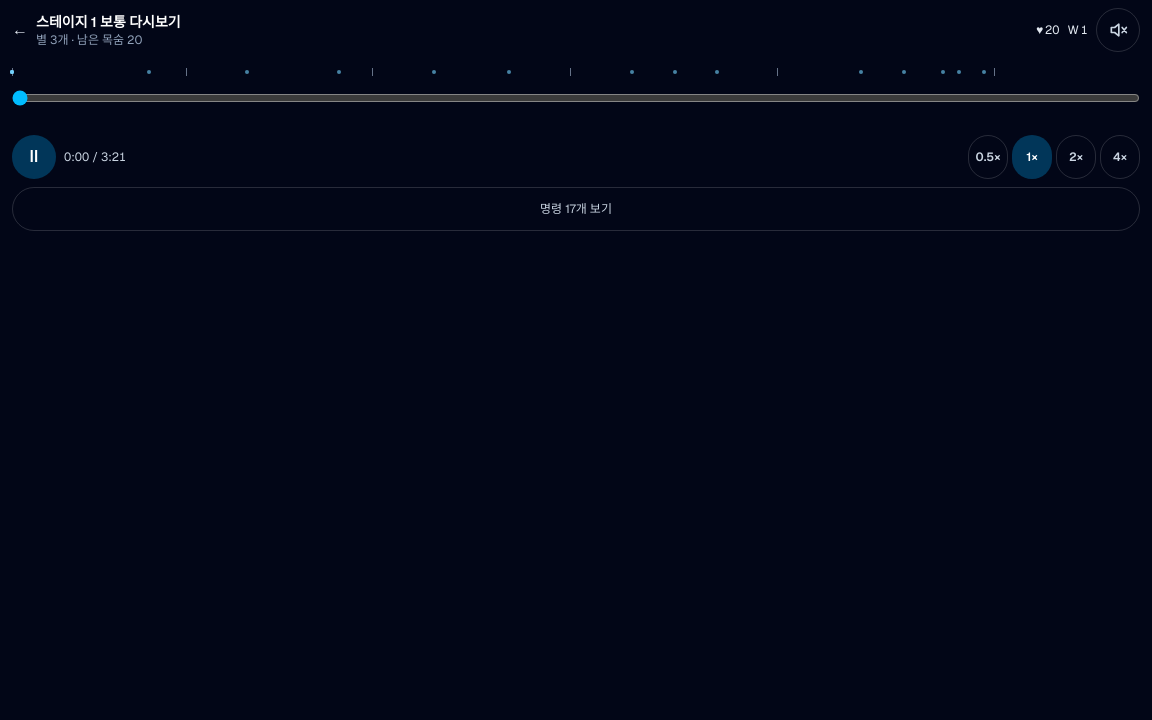
Test: 디펜스 다시보기 소리 (games-polish P7) › 소리 버튼 — 공통 소리 모달(효과음만)을 열고, 바꾸면 공통 설정에 바로 저장된다 (P8)
Check: the element with test id "defense-replay" is shown, box [0, 0, 1151, 243]
Click the button with test id "defense-sound" at (1118, 30), box [1096, 8, 1140, 52]
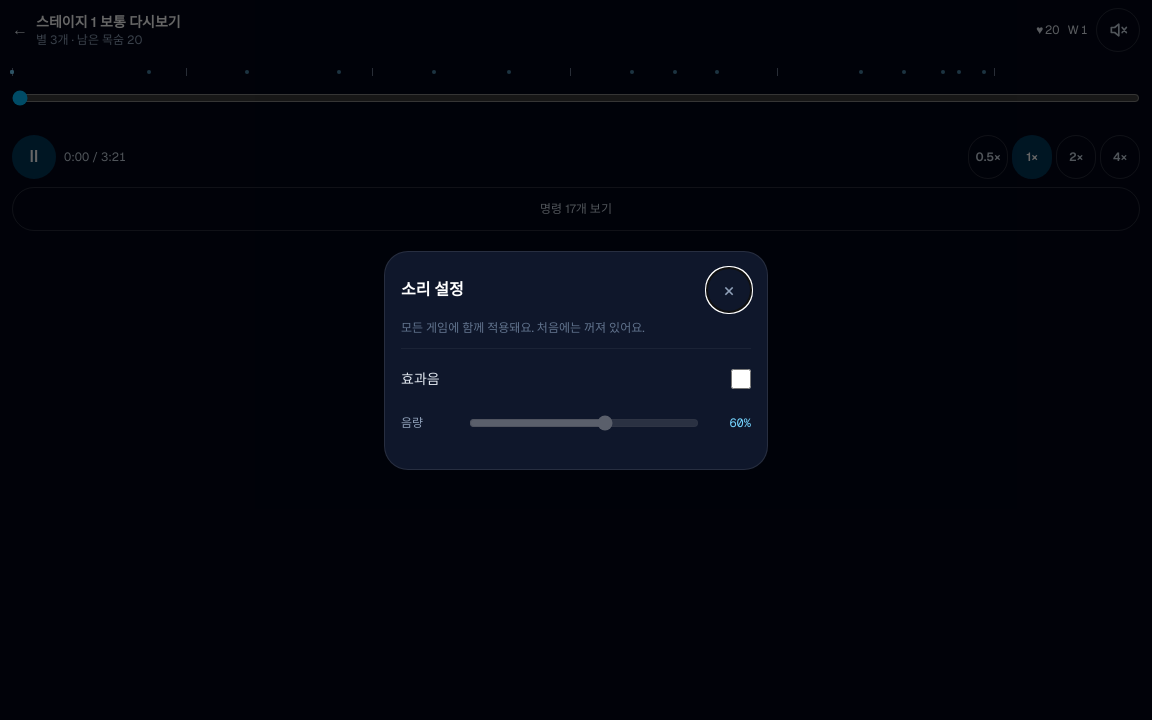
Click the checkbox labelled "효과음" at (741, 378), box [731, 368, 751, 388]
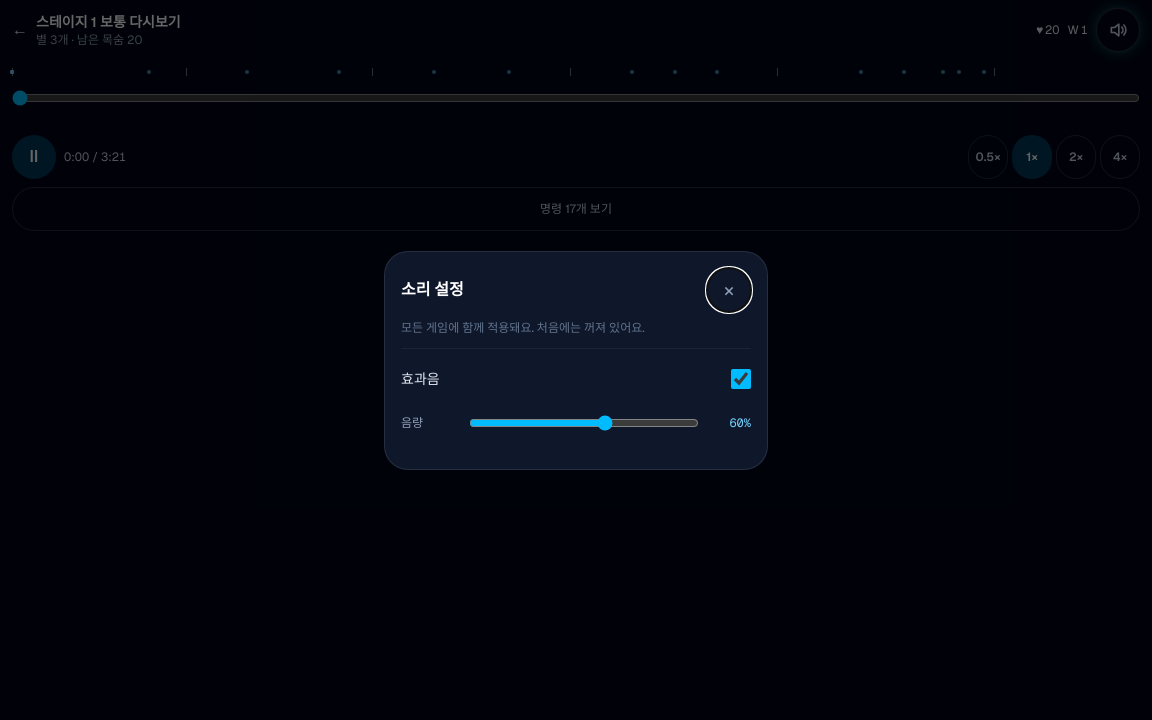
Set the slider named "효과음 음량" to "30" at (541, 422), box [469, 400, 699, 444]
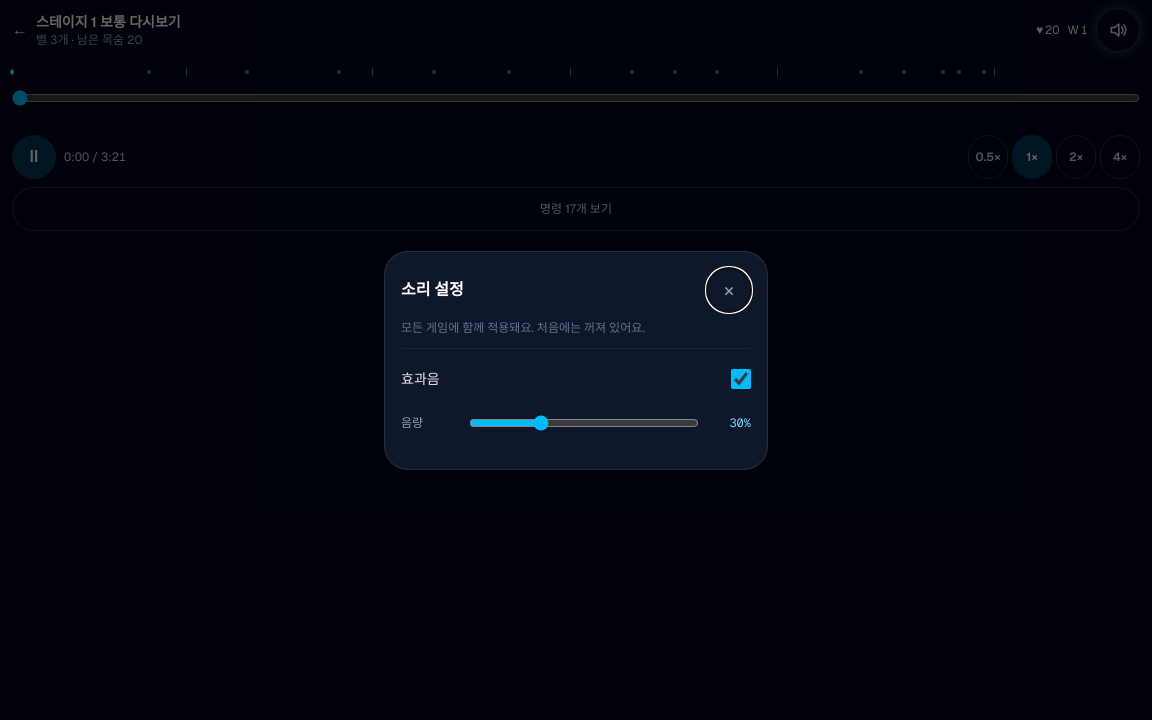
Press Escape in the dialog "소리 설정", box [384, 250, 768, 470]
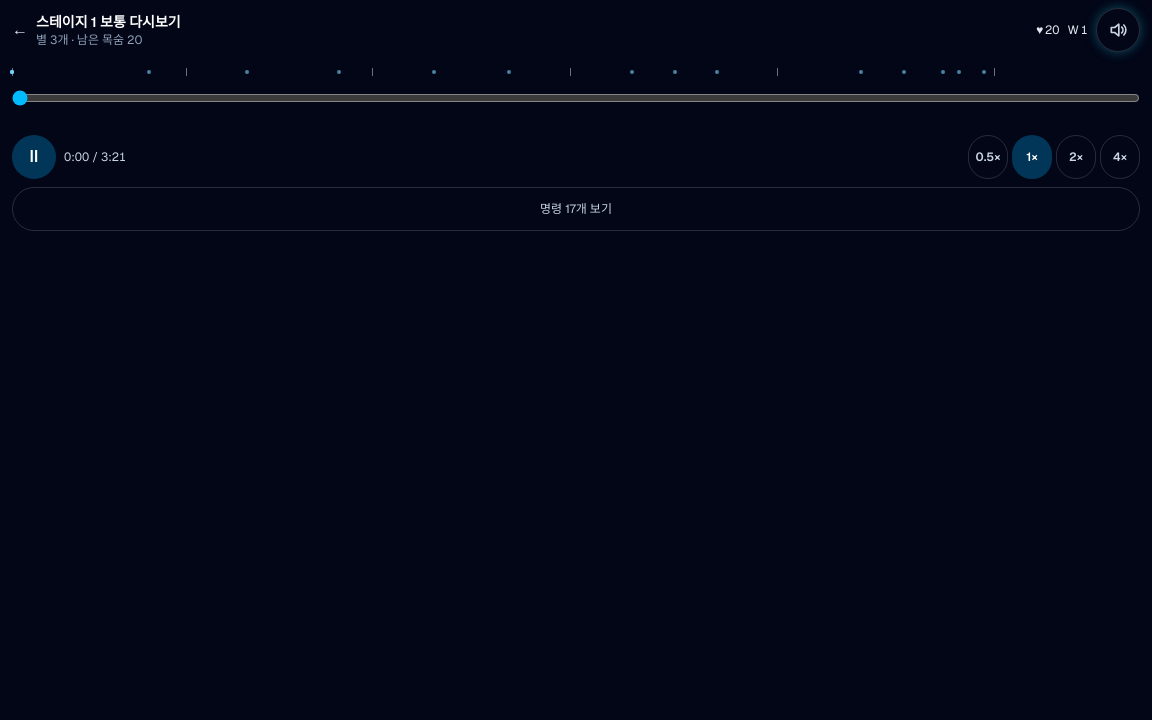
Check: the heading "소리 설정" is gone
